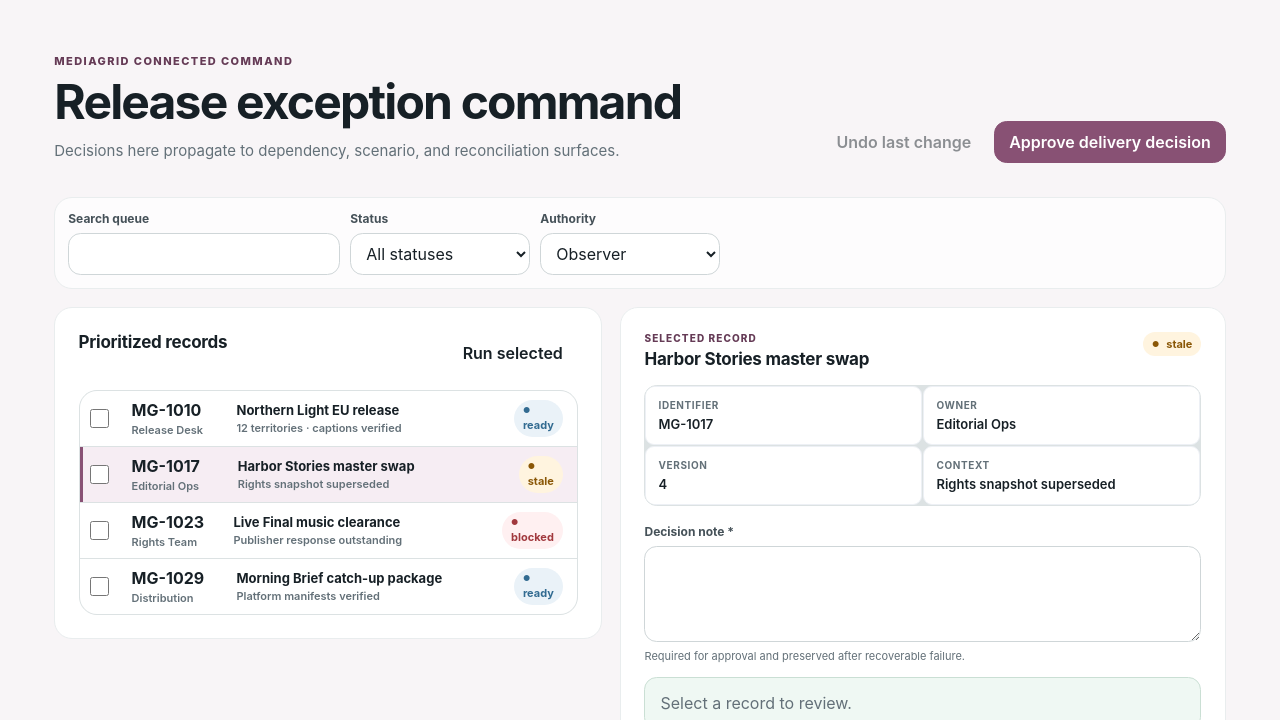
Test: Release exception command › recovers a stale save while preserving the decision note
Select "Approver" in the dropdown labelled "Authority" at (630, 254), box left=540, top=234, right=720, bottom=276
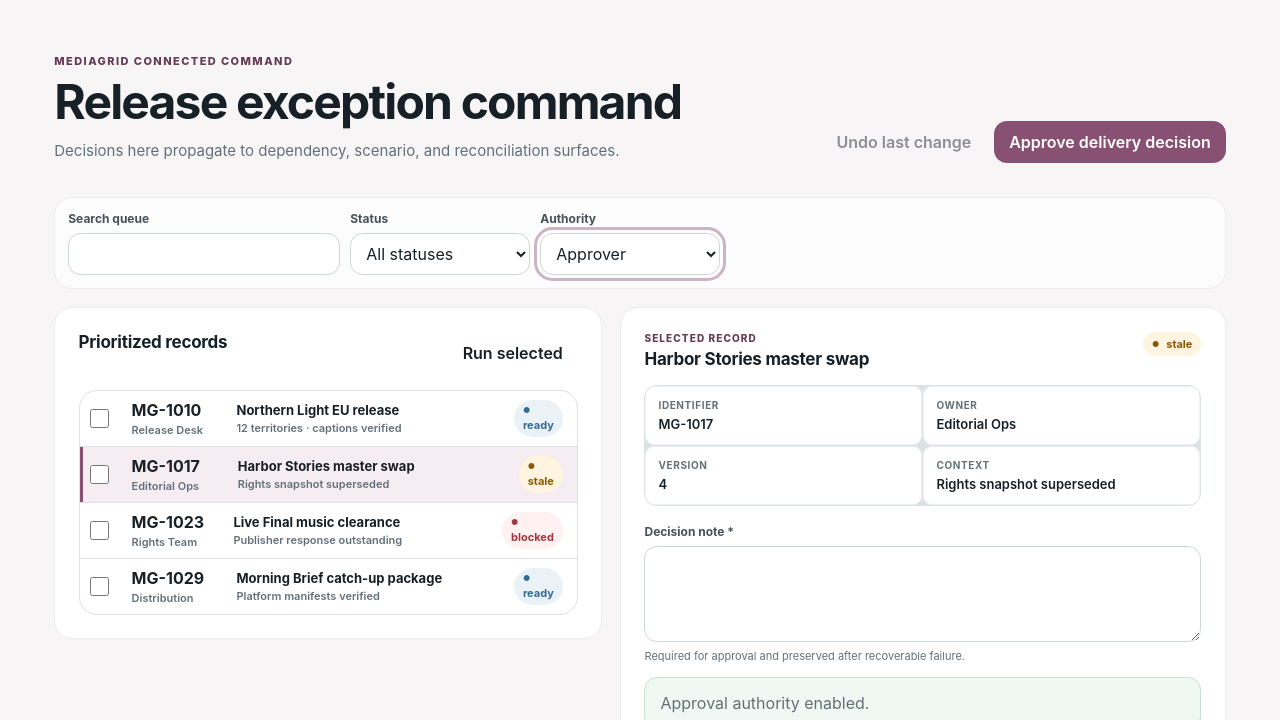
Type "Keep this evidence-based rationale" into the text box labelled "Decision note" at (923, 594), box left=644, top=546, right=1201, bottom=642
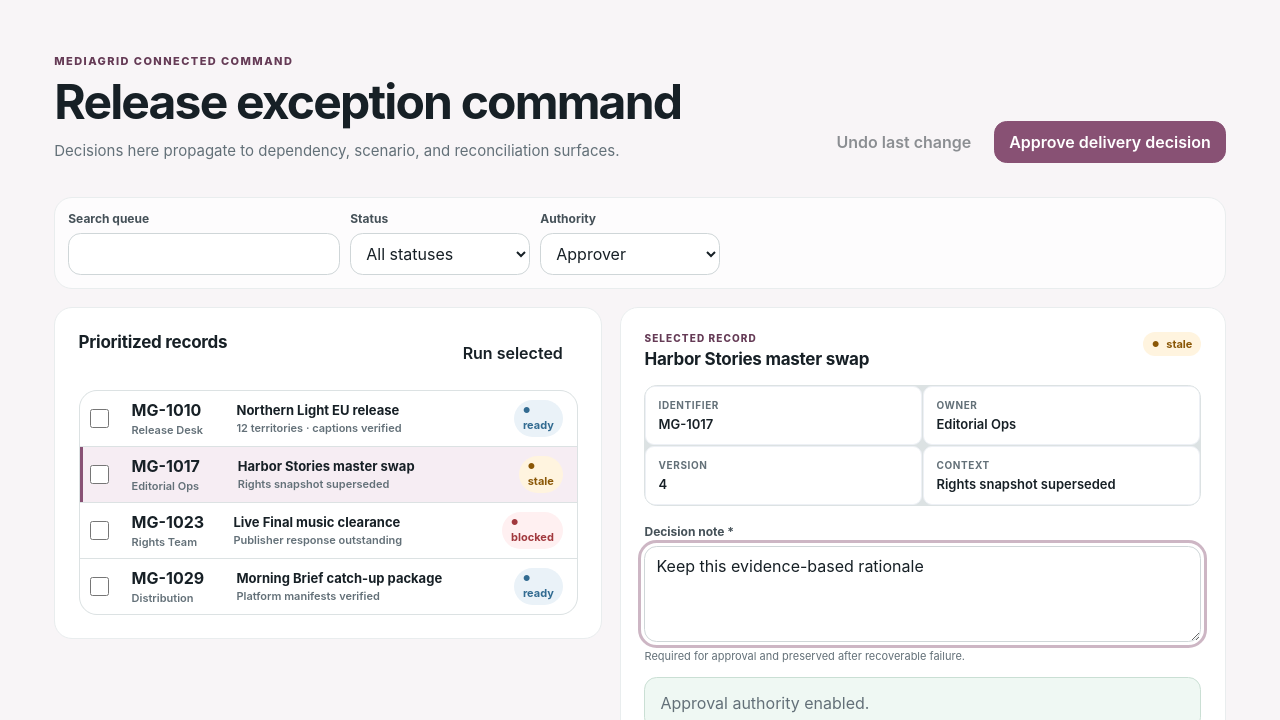
Click the button "Approve delivery decision" at (1110, 142), box left=994, top=122, right=1226, bottom=164
(page scrolled)
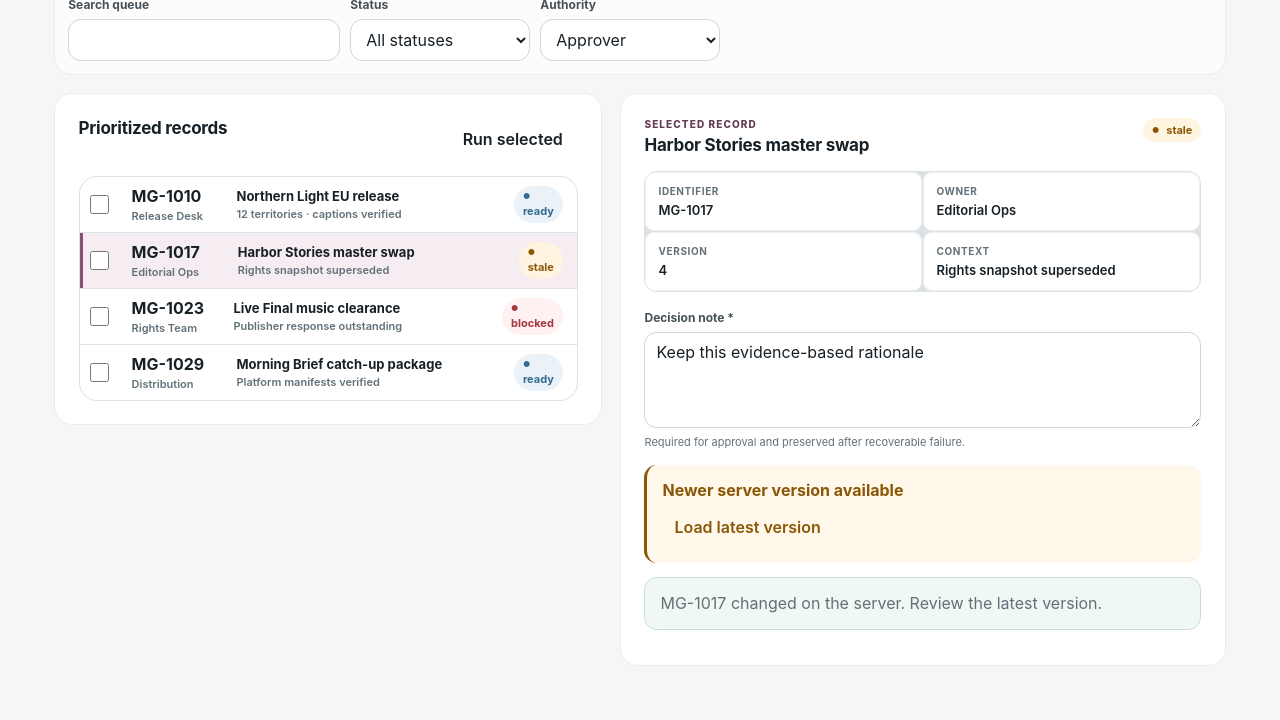
Expected: the message "Newer server version available Load latest version" is shown, left=644, top=465, right=1201, bottom=563
Click the button "Load latest version" at (748, 527), box left=662, top=506, right=1186, bottom=548
(page scrolled)
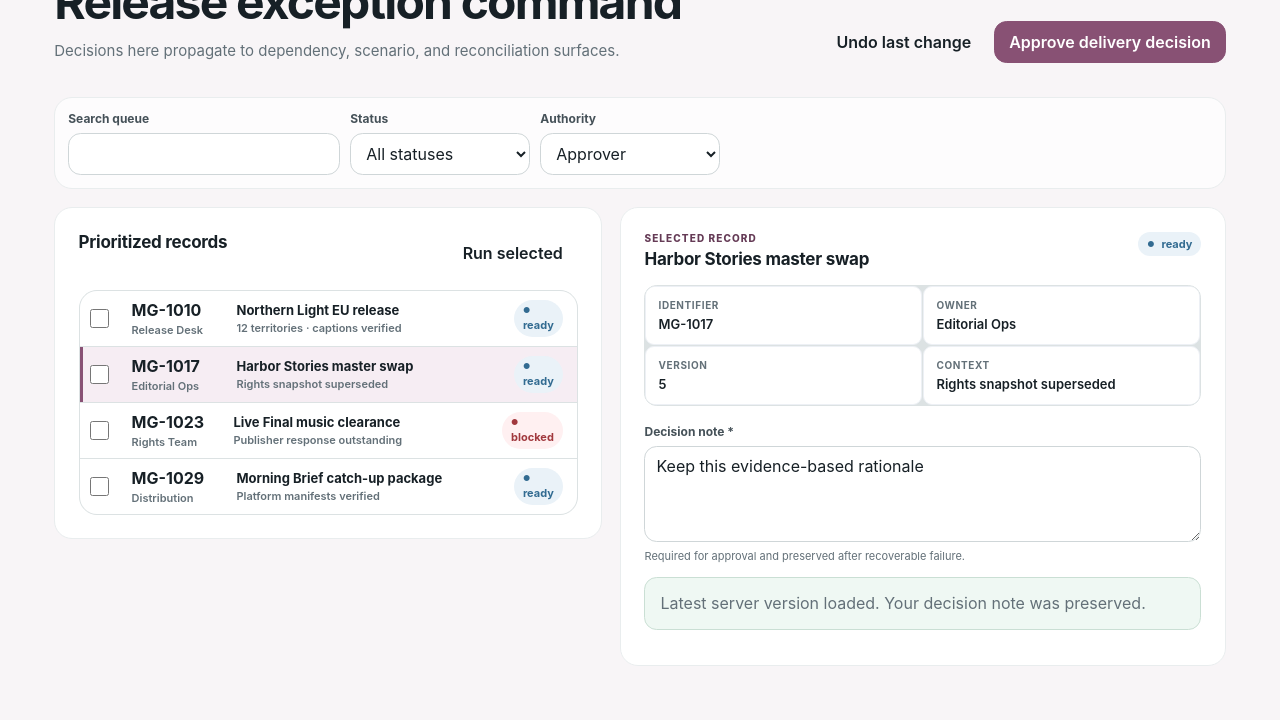
Click the button "Approve delivery decision" at (1110, 42), box left=994, top=22, right=1226, bottom=64
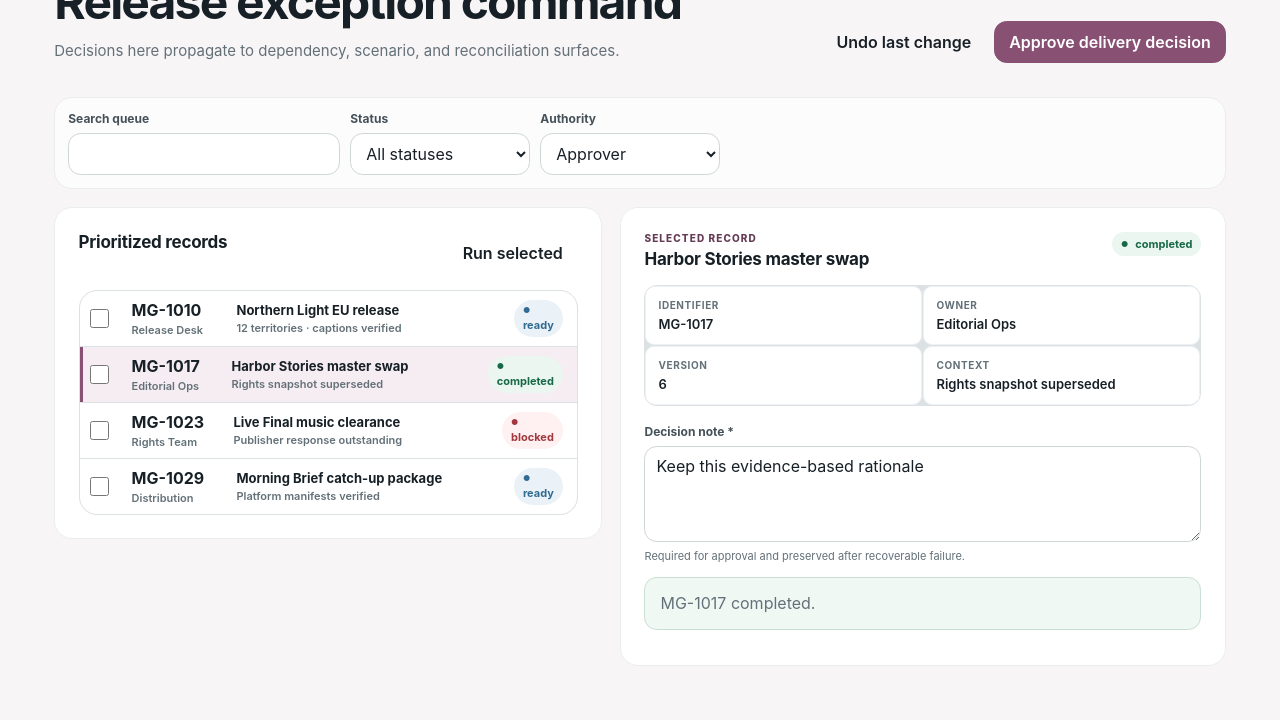
Expected: the message shows "completed", left=660, top=593, right=816, bottom=613
